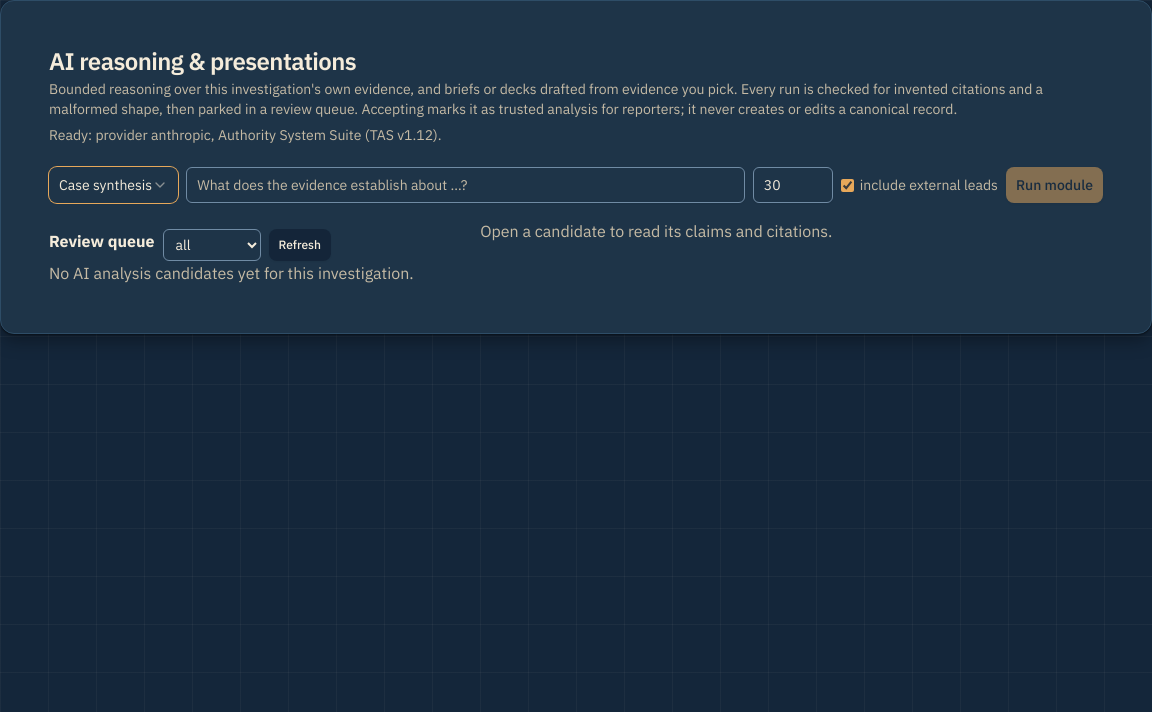
Test case: AiReasoningPanel › follows a queued run in the background and opens its candidate when the job finishes
Expected: the text "No AI analysis candidates yet for this investigation." is shown, top-left (49, 261), bottom-right (464, 285)
Press Arrowdown Arrowdown
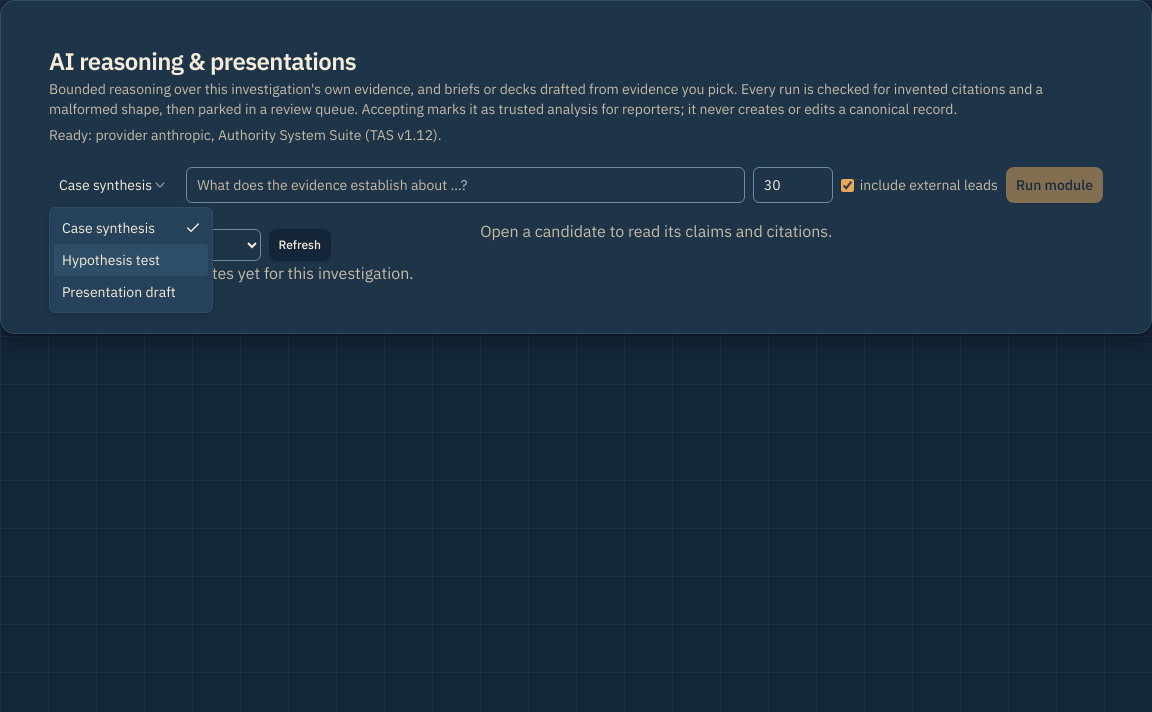
Click the option "Presentation draft".
click(119, 292)  # box top-left (62, 283), bottom-right (176, 301)
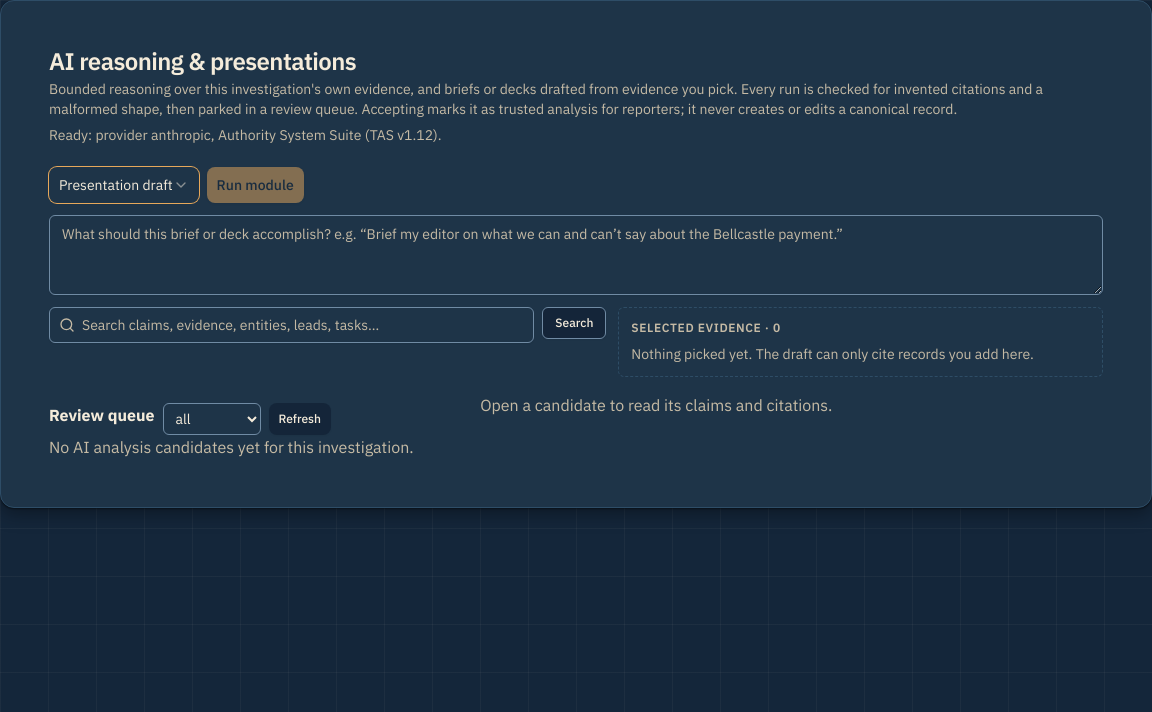
Type "Summarize the Bellcastle payment." into the text box named "Goal".
click(576, 255); type("Summarize the Bellcastle payment.")  # box top-left (49, 215), bottom-right (1103, 295)
Type "Bellcastle" into the field named "Search records to add".
click(292, 325); type("Bellcastle")  # box top-left (49, 307), bottom-right (534, 343)
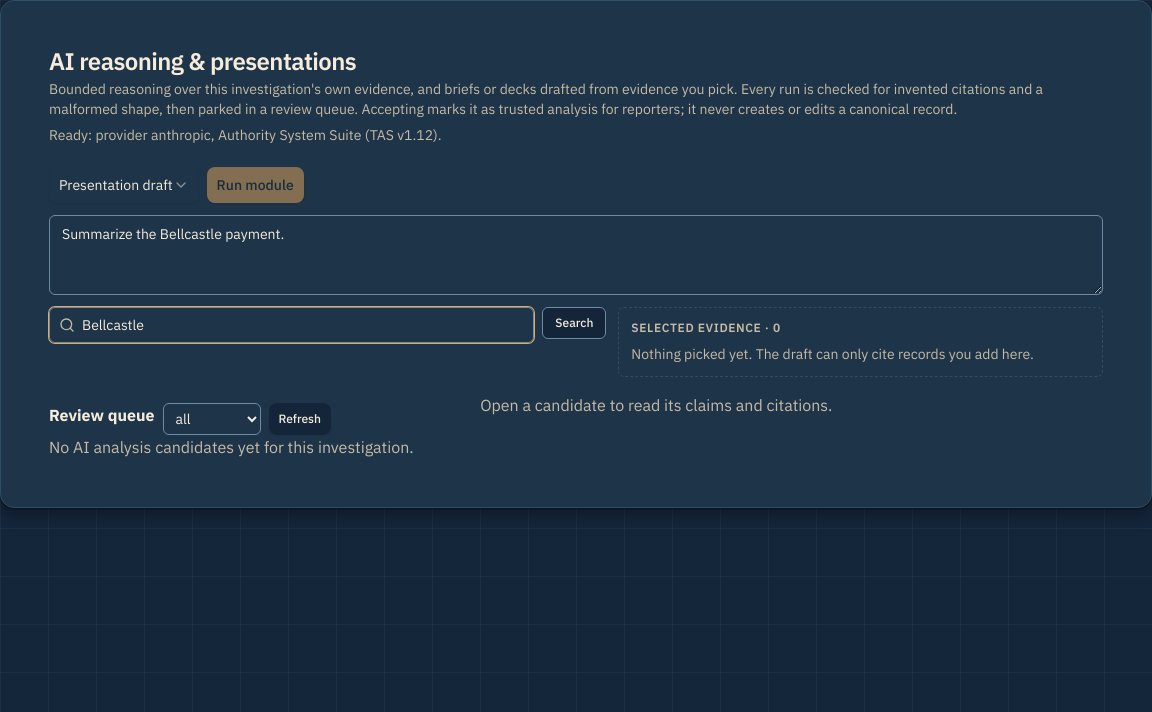
Click the button "Search".
click(574, 323)  # box top-left (542, 307), bottom-right (606, 339)
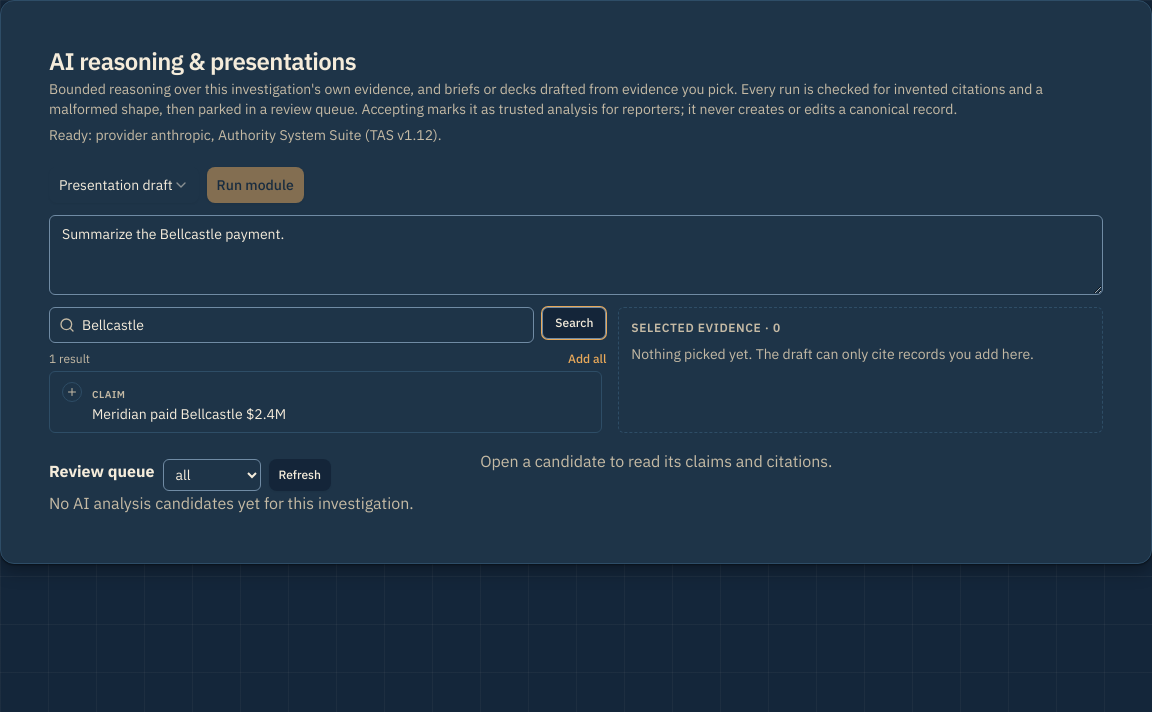
Click the button with aria-label "Add Claim: Meridian paid Bellcastle $2.4M".
click(109, 394)  # box top-left (49, 371), bottom-right (602, 433)
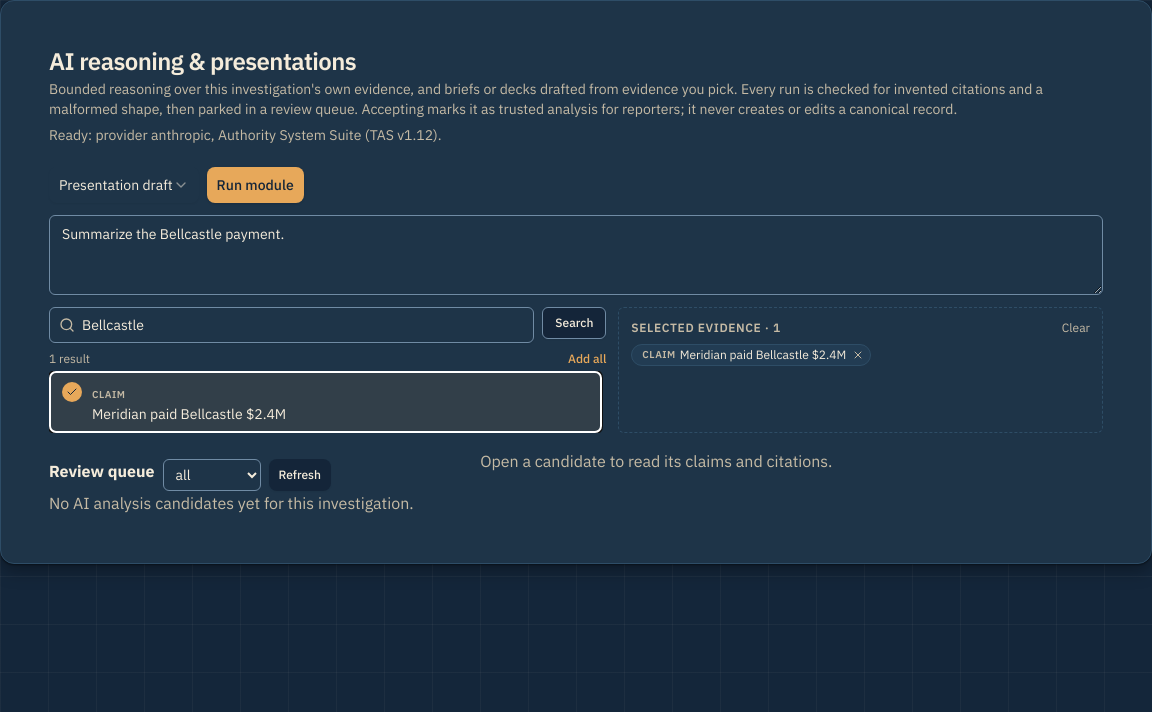
Click the button "Run module".
click(255, 185)  # box top-left (207, 167), bottom-right (304, 203)
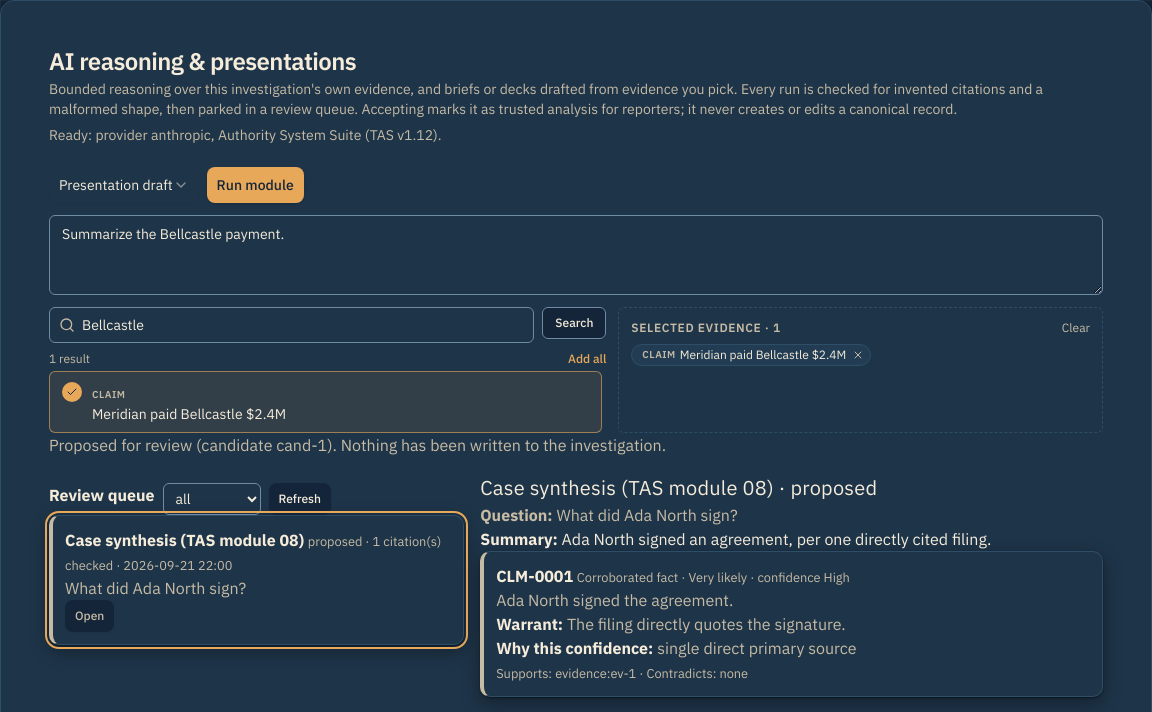
Result: the text with test id "ai-run-status" shows "Proposed for review (candidate cand-1)." at top-left (49, 435), bottom-right (666, 455)
